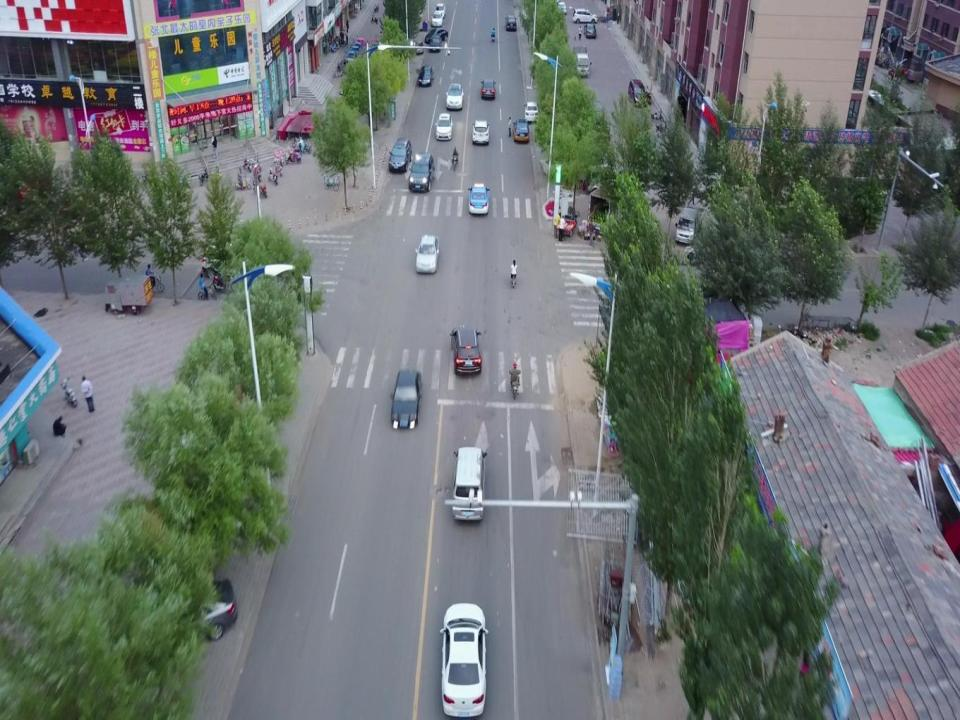car: (120, 579, 238, 661), (439, 604, 489, 716), (390, 369, 422, 429), (415, 234, 439, 274), (468, 184, 490, 214), (339, 79, 368, 97), (512, 119, 530, 142), (588, 100, 605, 124), (425, 28, 448, 42), (418, 66, 434, 86), (429, 35, 442, 52), (432, 12, 444, 26), (584, 24, 596, 38)
truck: (587, 178, 639, 237), (675, 205, 705, 244), (573, 45, 592, 78)
van: (452, 447, 487, 521), (201, 240, 252, 285), (450, 326, 482, 374), (586, 164, 626, 196), (409, 153, 435, 191), (389, 138, 412, 172), (445, 84, 464, 110), (628, 80, 647, 106), (572, 7, 598, 26), (435, 113, 453, 140), (471, 120, 490, 145), (337, 58, 360, 76), (867, 90, 884, 110), (524, 102, 540, 122), (404, 38, 424, 54), (504, 13, 516, 31), (434, 3, 446, 19), (557, 2, 567, 15)
